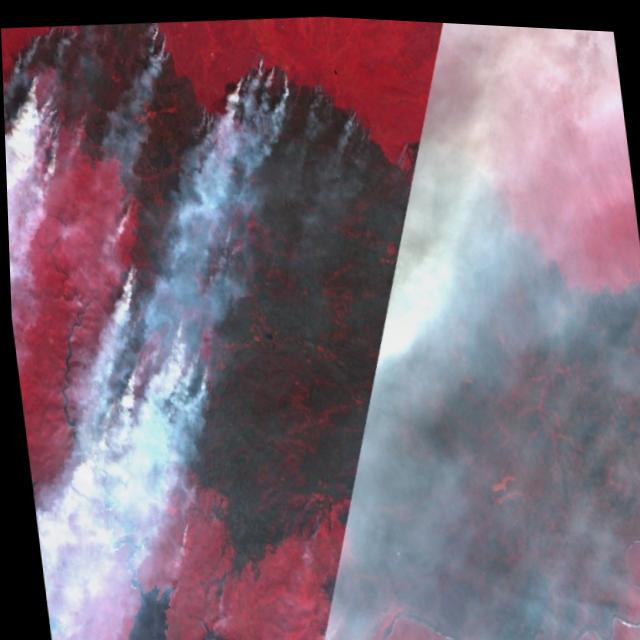fire: (89, 181, 220, 446), (0, 11, 193, 166), (210, 23, 374, 163)
